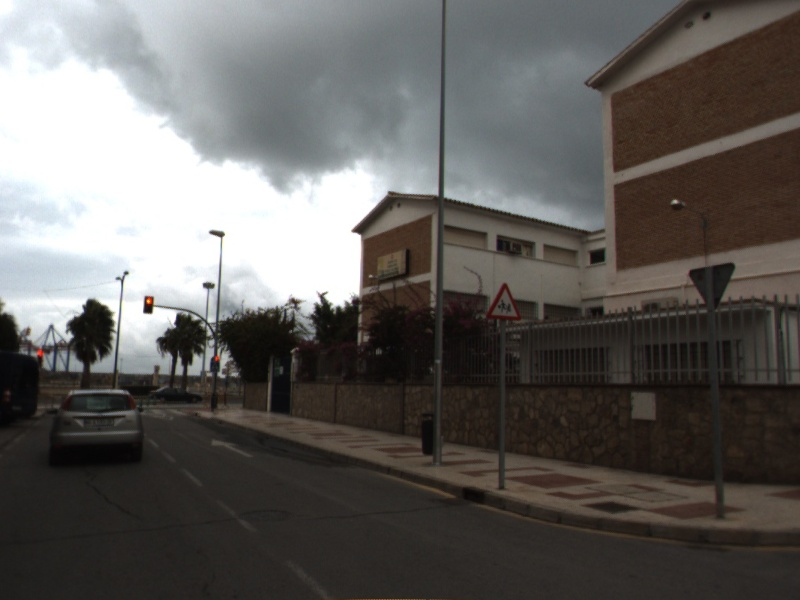STRAIGHT: (209, 435, 257, 460)
